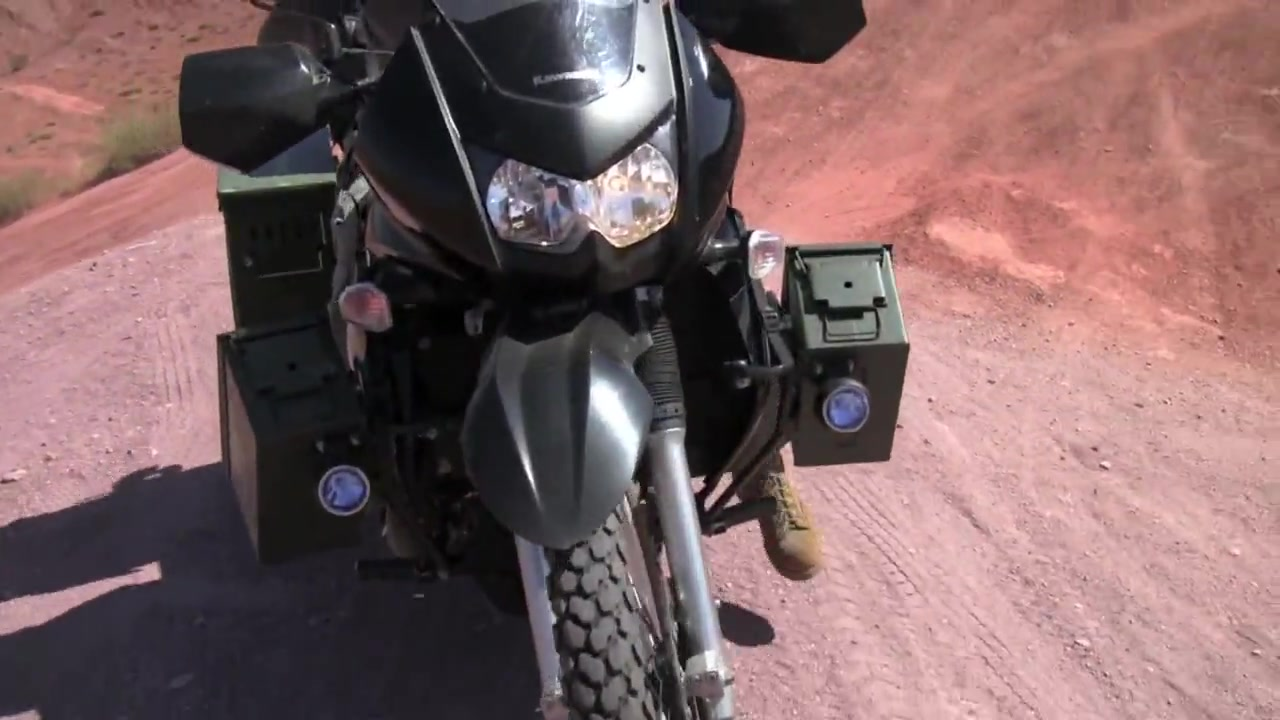motorbike: (177, 1, 912, 720)
